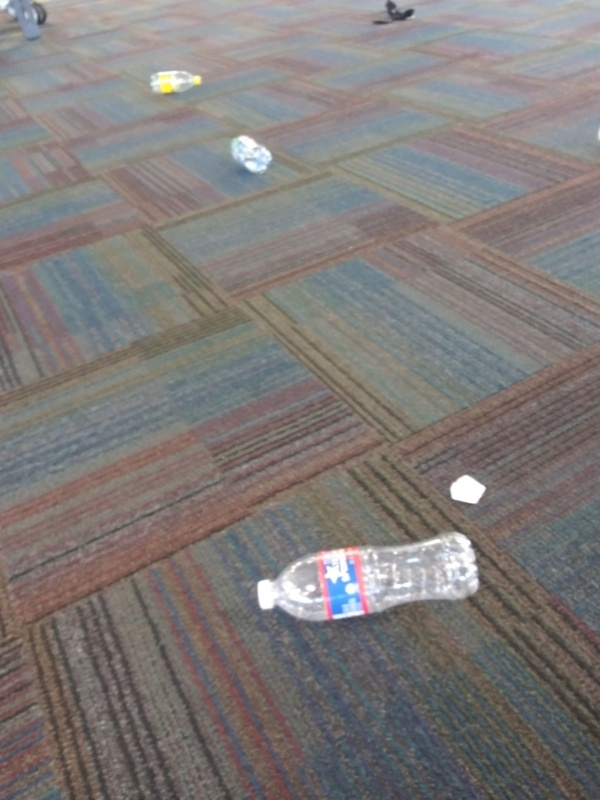bottle: (254, 529, 482, 632), (225, 128, 278, 179), (145, 66, 206, 96)
